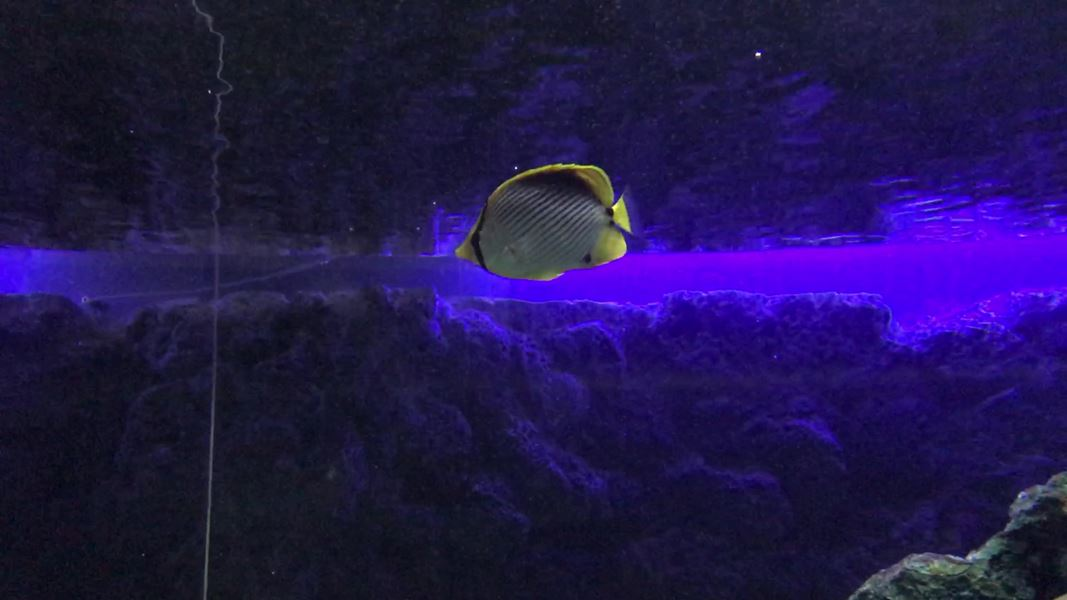Black-backed butterflyfish: (447, 156, 658, 291)
